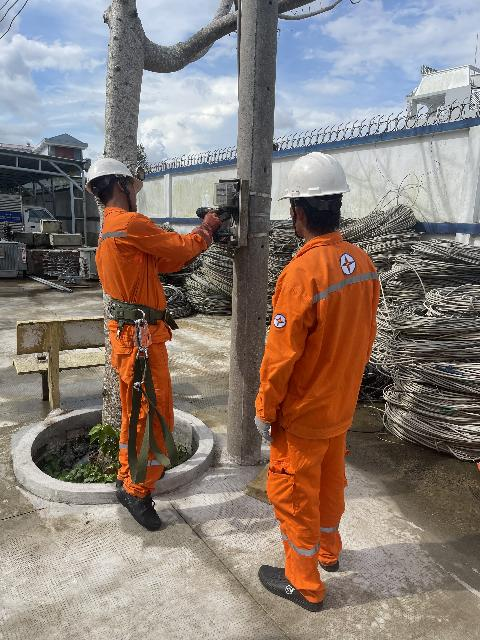gloves: (190, 204, 229, 251), (248, 404, 282, 444)
harness: (89, 283, 180, 336)
helmet: (267, 144, 358, 210), (71, 150, 149, 211)
shoes: (244, 555, 328, 625), (111, 465, 166, 537), (313, 534, 356, 578)
